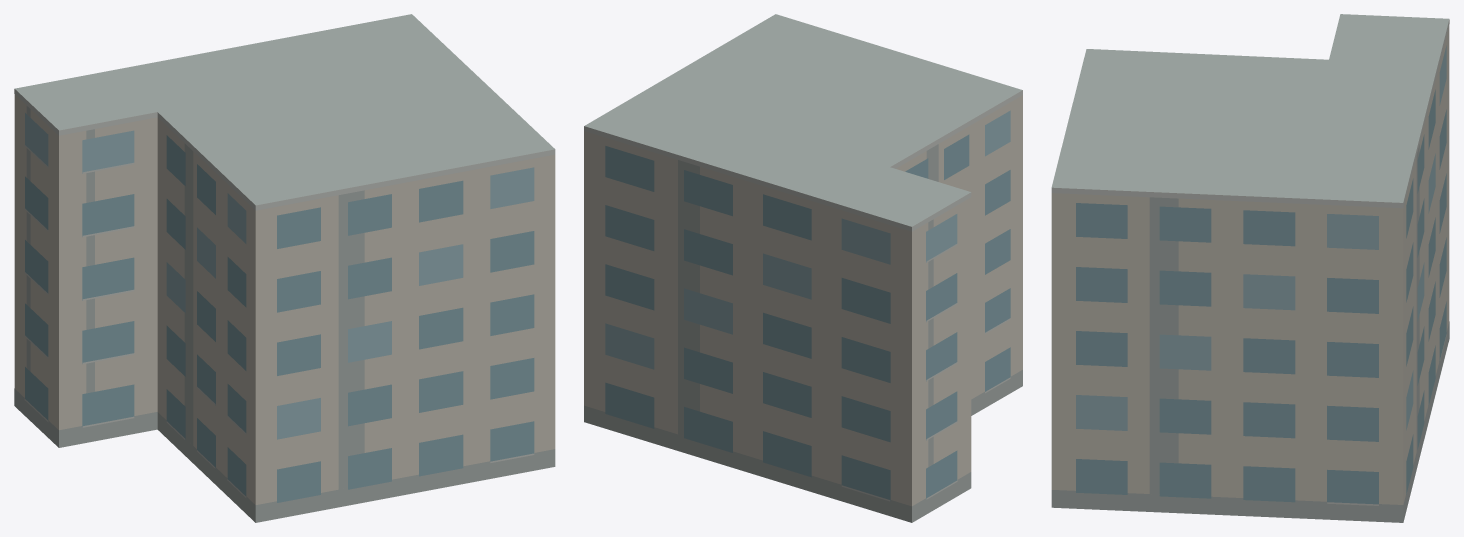
Rendered from survey-upis-32567051.glb.
3 views of the same model, side by side, from view 1: azimuth 30°, elevation 25°; view 2: azimuth 150°, elevation 25°; view 3: azimuth 270°, elevation 25° (orthographic). The views are drawn at different scales.
Visible parts, largest first — view 1: survey-upis-32567051.tmp; view 2: survey-upis-32567051.tmp; view 3: survey-upis-32567051.tmp.
Boxes of the visible parts, x1,y1,x2,y2 form: survey-upis-32567051.tmp: (14, 14, 555, 522); survey-upis-32567051.tmp: (584, 14, 1022, 522); survey-upis-32567051.tmp: (1051, 14, 1449, 522).
Bounding box in the file's own units: 18.5 × 14.6 × 16.47.
